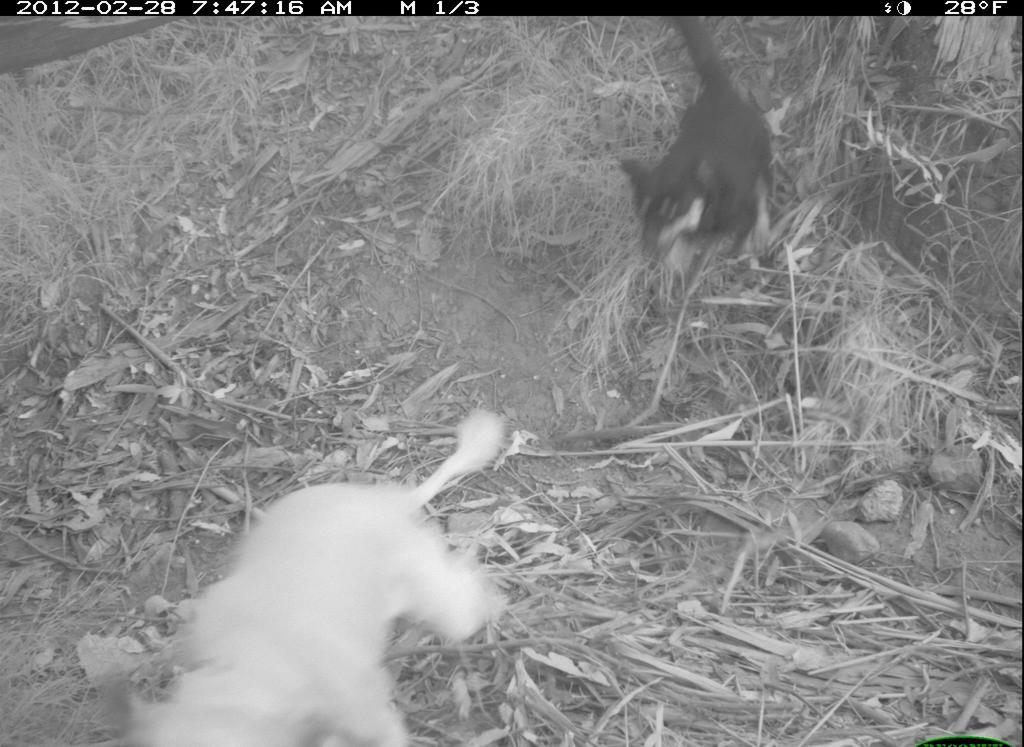dog: (114, 369, 557, 747), (598, 16, 803, 285)
